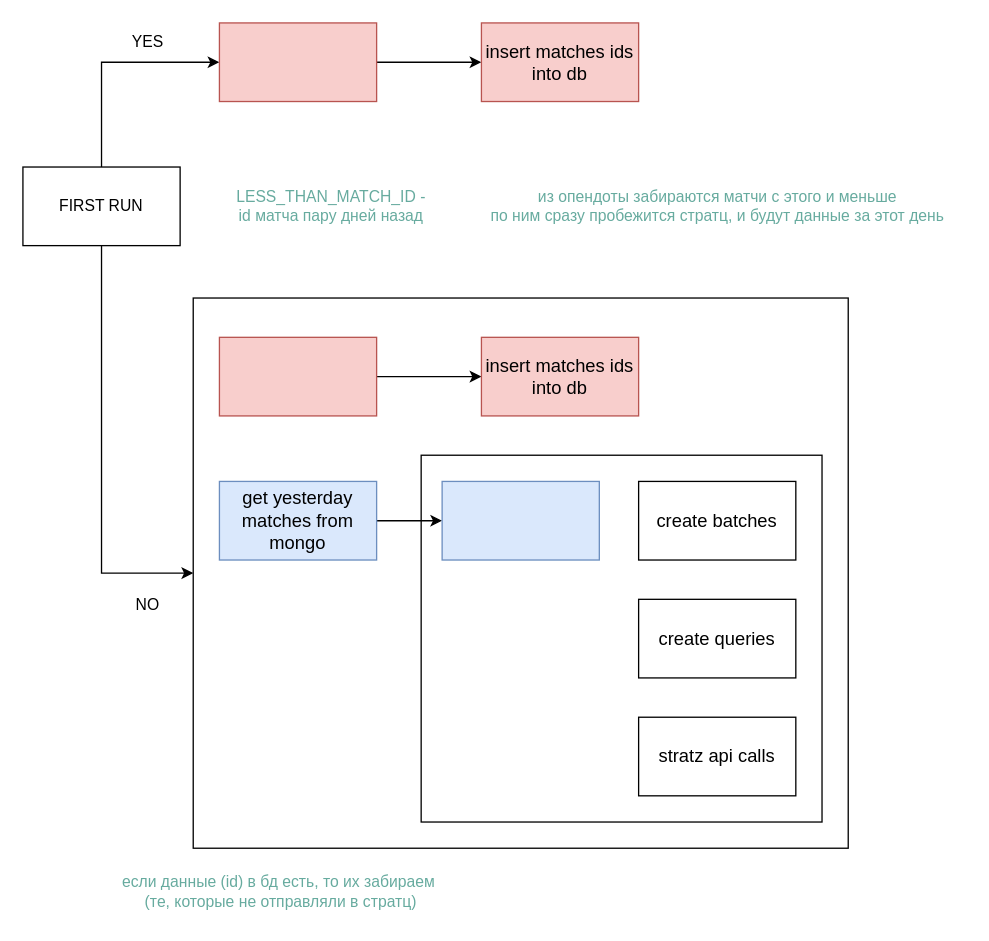
The diagram is 989 pixels wide and 941 high, and some of its shapes have lost their labels. The shapes that lost their labels are listed below. From the top down, each one's centre as x and y in pixels, then its label:
At (297,62): "opendota request (LESS_THAN_MATCH)".
At (297,376): "opendota request (за вчера)".
At (520,520): "get stratz data".
